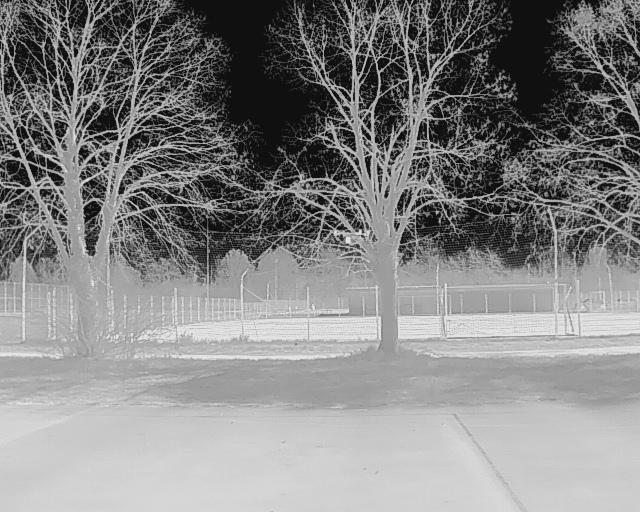drone: (324, 227, 371, 248)
